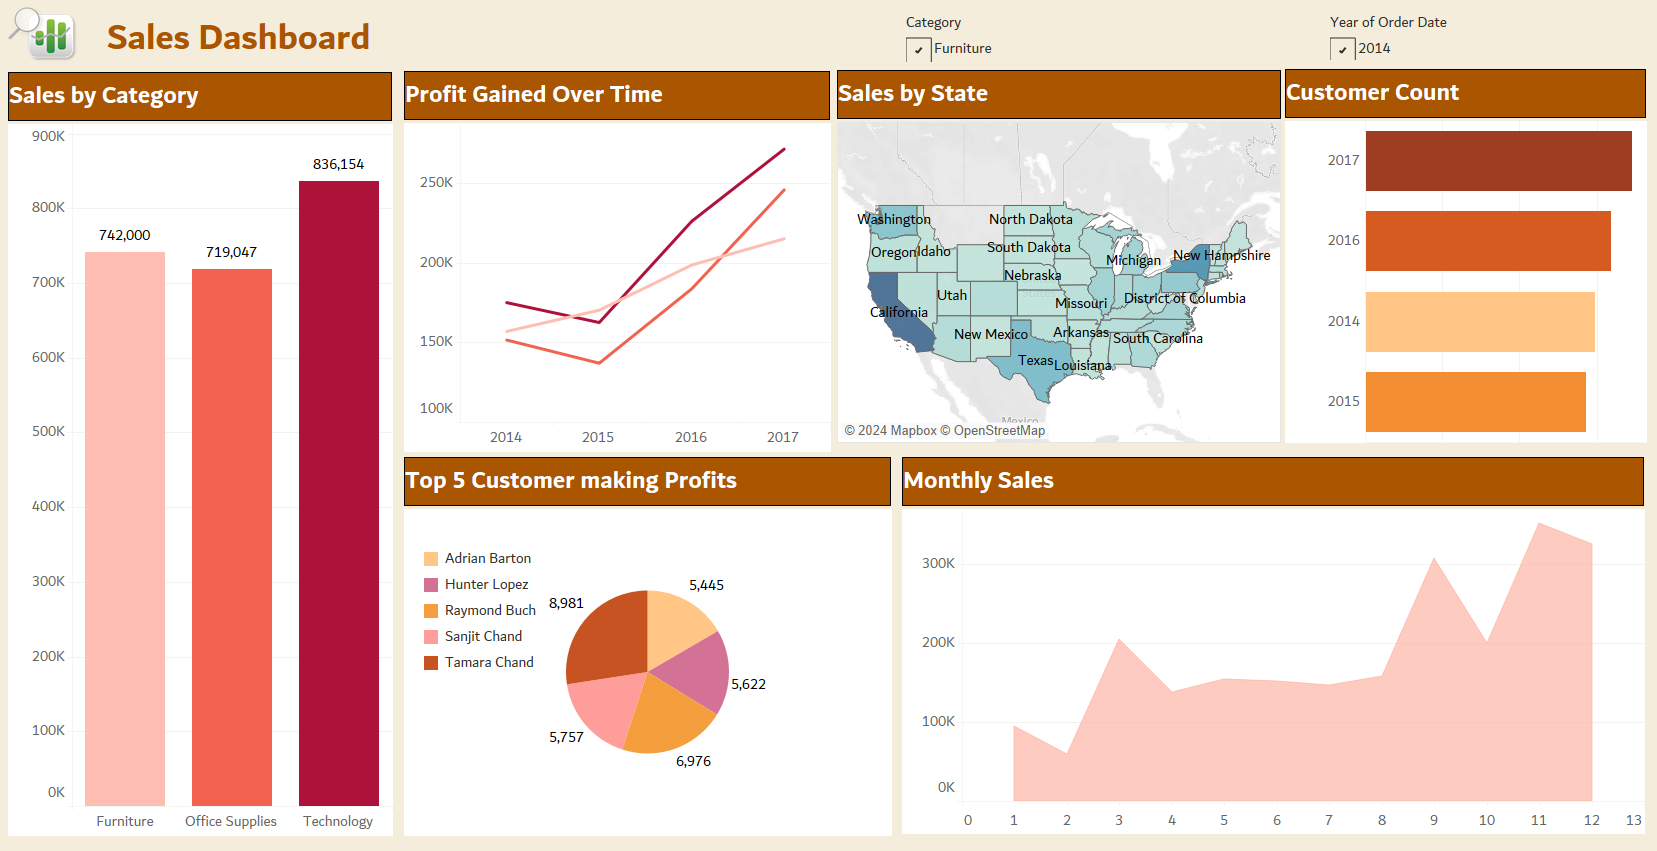

The dashboard page shown, as its layout file describes it:
{"tool":"tableau","page":{"name":"Dashboard 1","canvas":[1000,1000],"units":"permille","ordinal":0},"visuals":[{"type":"image","param":"C:/Users/mauli/OneDrive/Desktop/dashboard-icon-23.png","box":[5.4,7,41.6,75.2]},{"type":"title","box":[4.8,9.4,990.3,71.7]},{"type":"filter","title":"Sales by Category","param":"[federated.1h8361k0gbwhnh1cnnaqk1q5jigg].[none:Category:nk]","box":[546.8,10.6,253.5,62.3]},{"type":"filter","title":"Customer Count","param":"[federated.1h8361k0gbwhnh1cnnaqk1q5jigg].[yr:Order Date:ok]","box":[802.7,10.6,184.1,59.9]},{"type":"worksheet","title":"Customer Count","mark":"Bar","rows":["Order Date"],"cols":["Customer Name"],"box":[775.5,81.1,217.9,438.3]},{"type":"worksheet","title":"Sales by State","mark":"Automatic","box":[505.1,82.3,267.9,438.3]},{"type":"worksheet","title":"Profit Gained Over Time","mark":"Automatic","rows":["Sales"],"cols":["Order Date"],"box":[243.8,83.4,257.1,447.7]},{"type":"worksheet","title":"Sales by Category","mark":"Automatic","rows":["Sales"],"cols":["Category"],"box":[4.8,84.6,231.7,897.8]},{"type":"worksheet","title":"Top 5 Customer making Profits","mark":"Pie","box":[243.8,537,293.9,444.2]},{"type":"worksheet","title":"Monthly Sales","mark":"Area","rows":["Sales"],"cols":["Order Date"],"box":[544.4,537,447.8,443]},{"type":"legend","title":"Top 5 Customer making Profits","param":"[federated.1h8361k0gbwhnh1cnnaqk1q5jigg].[none:Customer Name:nk]","box":[252.3,641.6,84.5,302]}]}

Visuals, with their boxes on the dashboard's canvas, which has no fixed pixel size, in thousandths of its width and height (x1, y1, x2, y2). These are canvas units, not pixel positions in the 1657x851 screenshot, which may show the page scaled, cropped or inside an application window:
image: (left=5, top=7, right=47, bottom=82)
title: (left=5, top=9, right=995, bottom=81)
"Sales by Category" filter: (left=547, top=11, right=800, bottom=73)
"Customer Count" filter: (left=803, top=11, right=987, bottom=70)
"Customer Count" worksheet (Bar marks): (left=776, top=81, right=993, bottom=519)
"Sales by State" worksheet: (left=505, top=82, right=773, bottom=521)
"Profit Gained Over Time" worksheet: (left=244, top=83, right=501, bottom=531)
"Sales by Category" worksheet: (left=5, top=85, right=236, bottom=982)
"Top 5 Customer making Profits" worksheet (Pie marks): (left=244, top=537, right=538, bottom=981)
"Monthly Sales" worksheet (Area marks): (left=544, top=537, right=992, bottom=980)
"Top 5 Customer making Profits" legend: (left=252, top=642, right=337, bottom=944)
